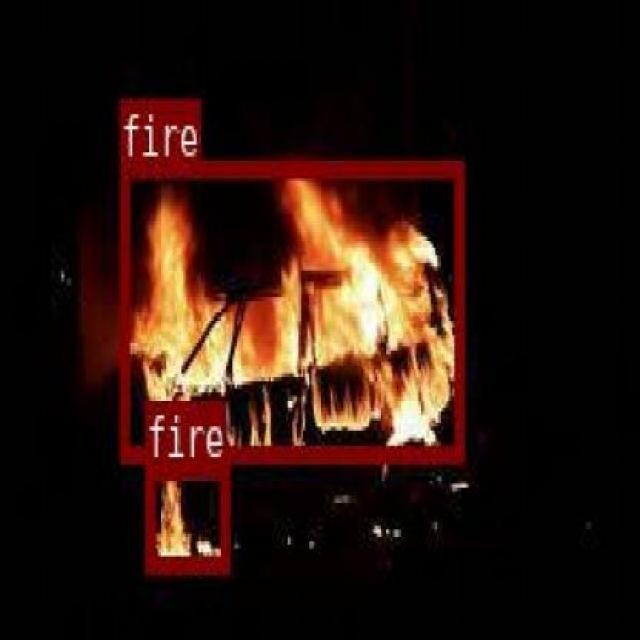fire: (118, 156, 462, 458), (143, 458, 228, 570)
